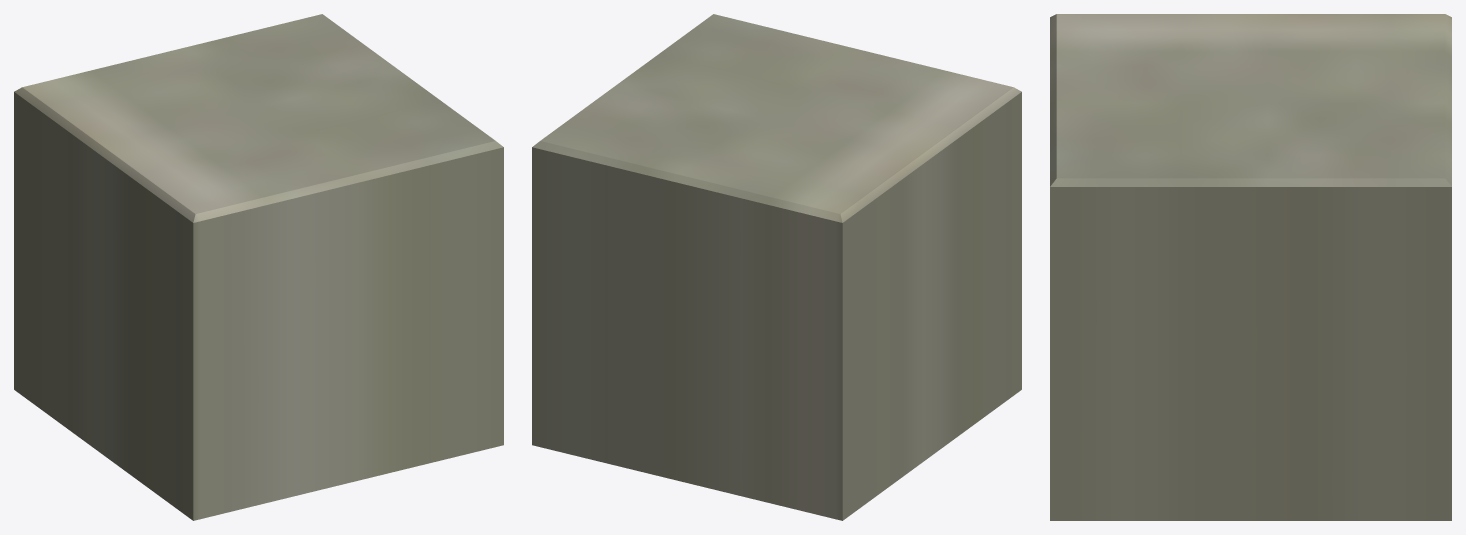
Rendered from f03-t-stone-corner-north-east.glb.
3 renders of one model, left to right at view 1: azimuth 30°, elevation 25°; view 2: azimuth 150°, elevation 25°; view 3: azimuth 270°, elevation 25°, orthographic. The views are drawn at different scales.
Visible parts, largest first — view 1: f03-t-stone-corner-north-east; view 2: f03-t-stone-corner-north-east; view 3: f03-t-stone-corner-north-east.
Part boxes in pixels (bbox=[...]): f03-t-stone-corner-north-east: bbox=[14, 14, 503, 520]; f03-t-stone-corner-north-east: bbox=[532, 14, 1021, 520]; f03-t-stone-corner-north-east: bbox=[1050, 14, 1451, 520].
Size of the model in its own units: 0.06 by 0.056 by 0.06.
Materials: 1 (1 with a texture image).
